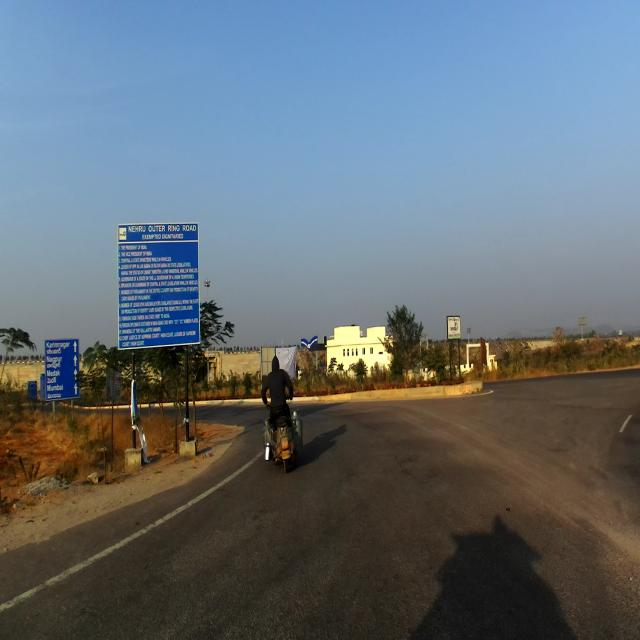motorcycle ahead at: (260, 416, 308, 481)
